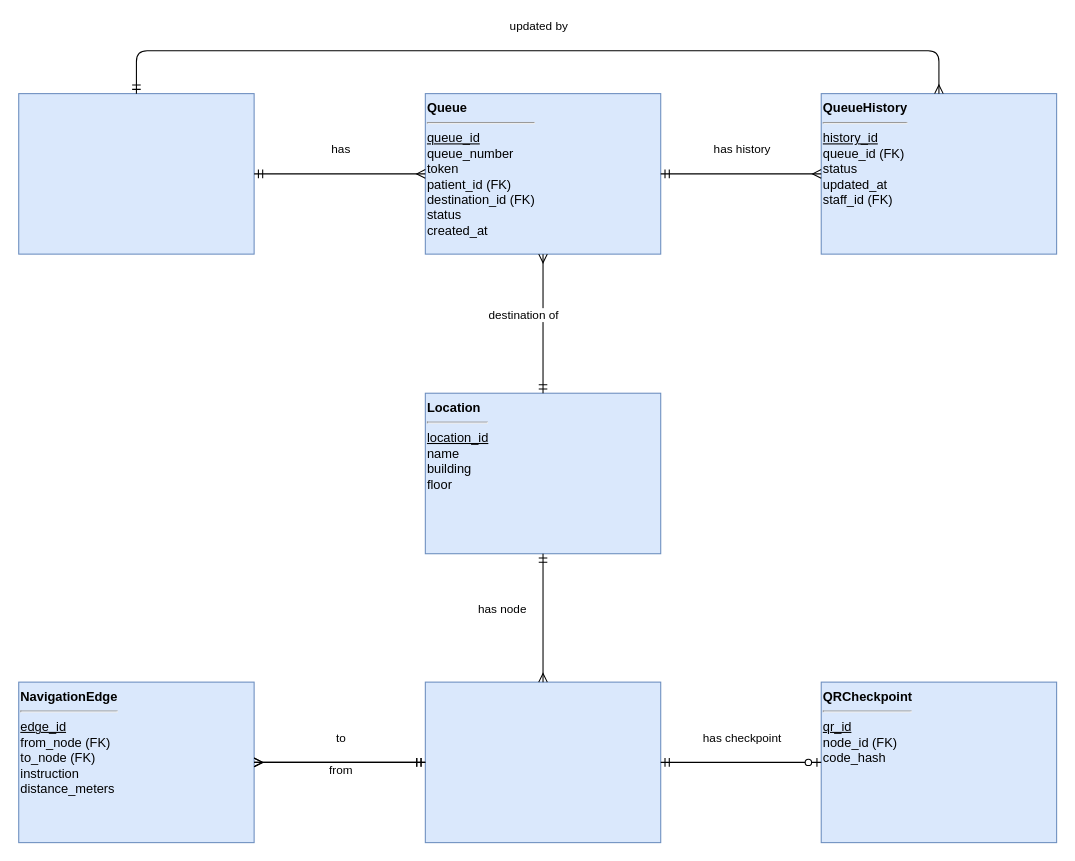
The diagram is 1075 pixels wide and 861 high, and some of its shapes have lost their labels. Here are the shapes that lost their labels. From the top down, the centre of each, then its label:
At [136,173]: "User user_id email password_hash name role created_at".
At [542,762]: "NavigationNode node_id location_id (FK) type pos_x pos_y floor".
